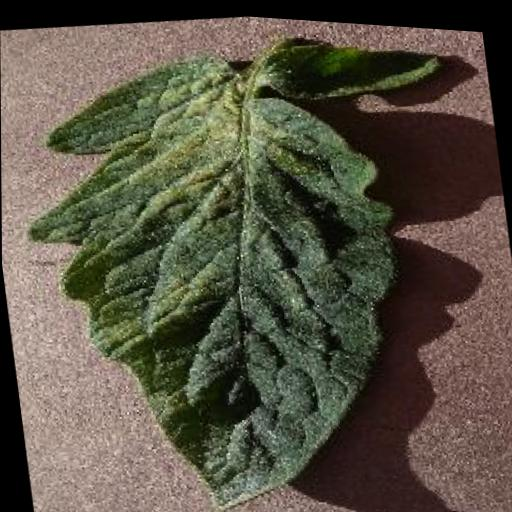Spider Mites: (7, 4, 497, 512)
